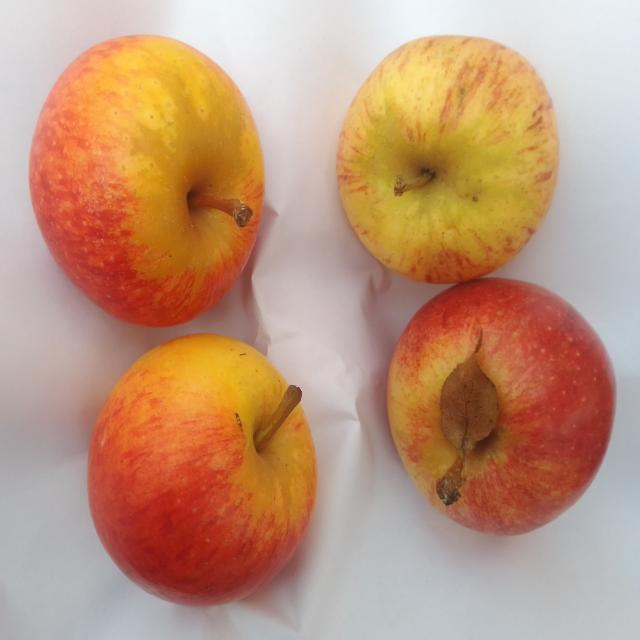Fresh Apple: (50, 40, 265, 308), (387, 295, 620, 537), (99, 342, 314, 590), (335, 45, 565, 273)
